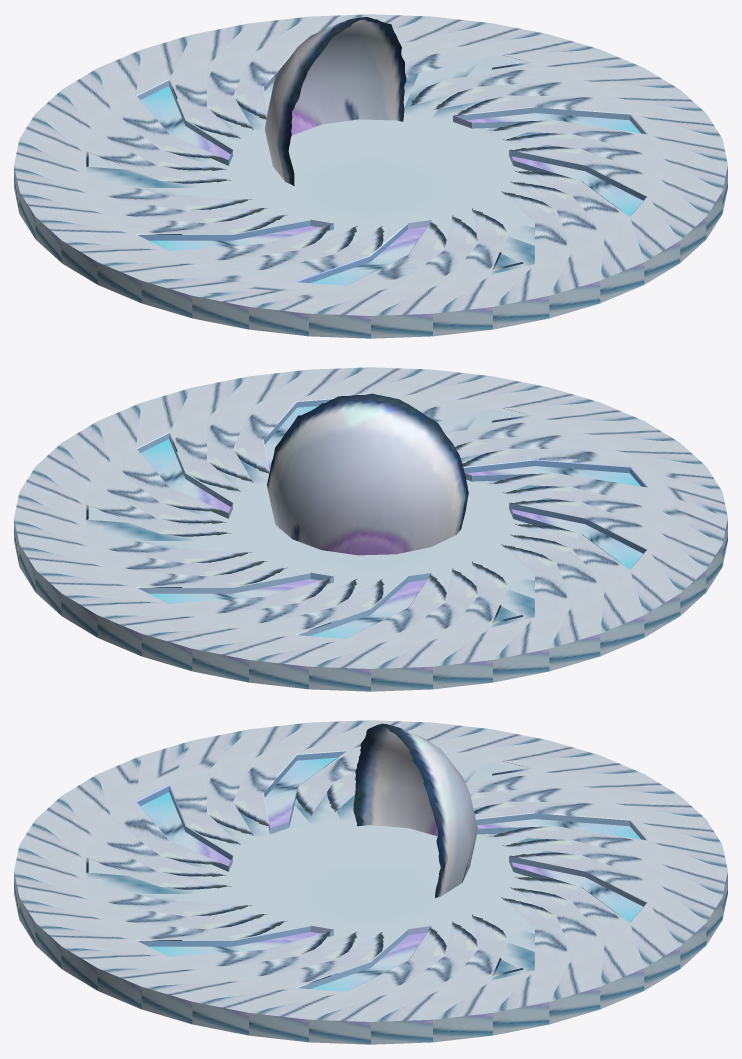
The model's file is Pendant.fbx.
The picture shows the model from 3 angles, top to bottom: view 1: azimuth 30°, elevation 25°; view 2: azimuth 150°, elevation 25°; view 3: azimuth 270°, elevation 25°; orthographic projection.
Visible parts, largest first — view 1: Pendant; view 2: Pendant; view 3: Pendant.
Part boxes in pixels (bbox=[...]): Pendant: bbox=[14, 14, 727, 338]; Pendant: bbox=[14, 367, 727, 691]; Pendant: bbox=[14, 720, 727, 1044].
Bounding box in the file's own units: 2 × 0.498 × 2.
